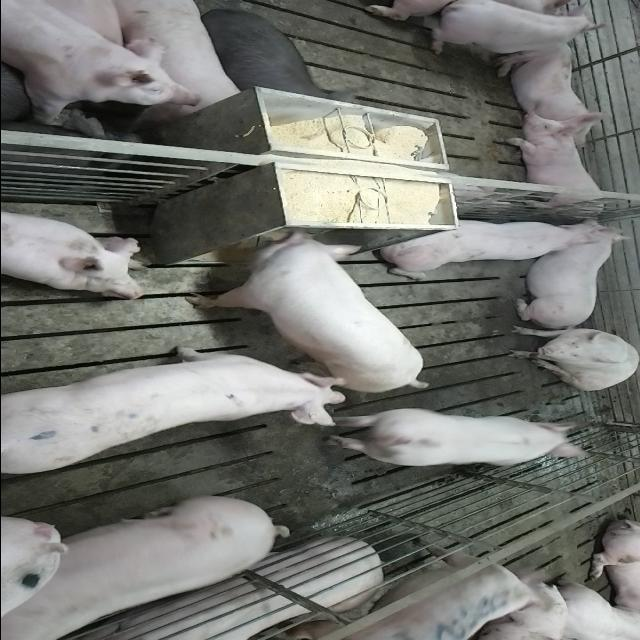Feeding: (190, 222, 434, 389)
Lateral_lying: (31, 538, 382, 640)
Sitting: (501, 325, 637, 391)
Standing: (6, 343, 353, 482), (276, 546, 548, 640), (0, 3, 193, 128), (316, 408, 588, 477), (95, 2, 244, 120), (195, 2, 325, 98)
Sternal_lying: (377, 214, 620, 274), (0, 206, 148, 296), (512, 220, 630, 324), (496, 116, 615, 218), (498, 44, 614, 140), (428, 2, 606, 64)
